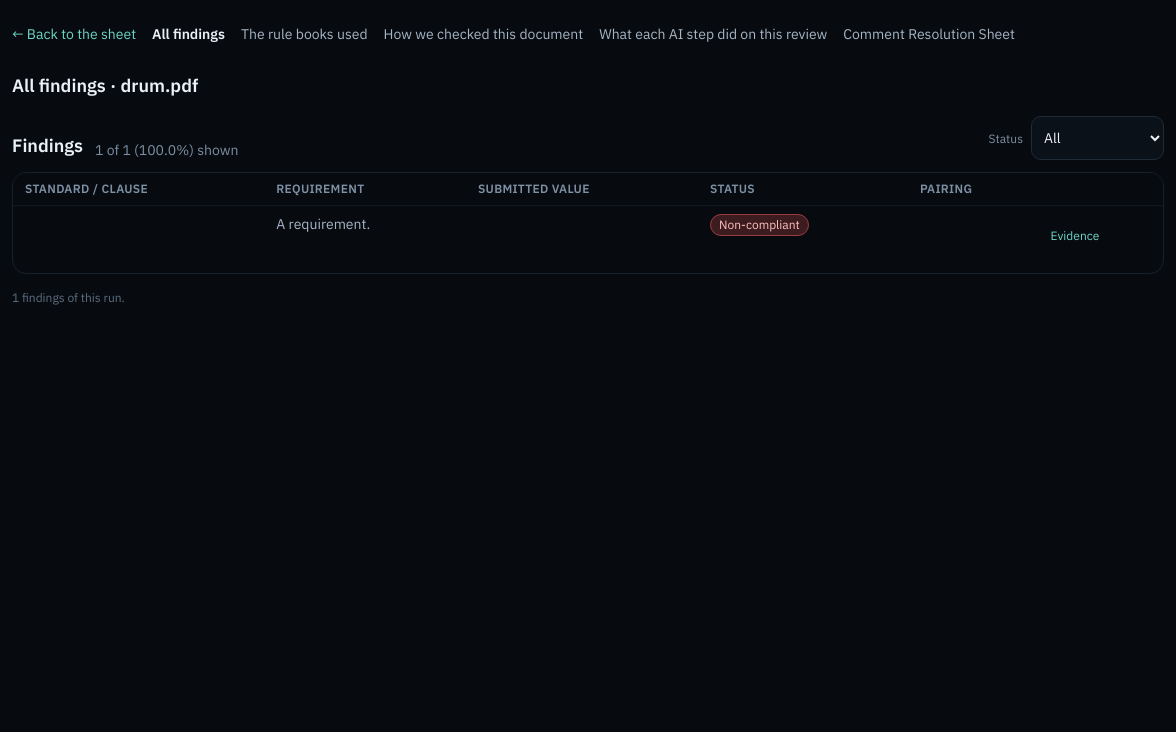
Test case: UX GROUP (2026-09-27): the finding detail › opens under the table when a finding is selected
The width and height of the screenshot is (1176, 732).
Click the text "A requirement." at (323, 224), box x1=264 y1=206 x2=466 y2=273
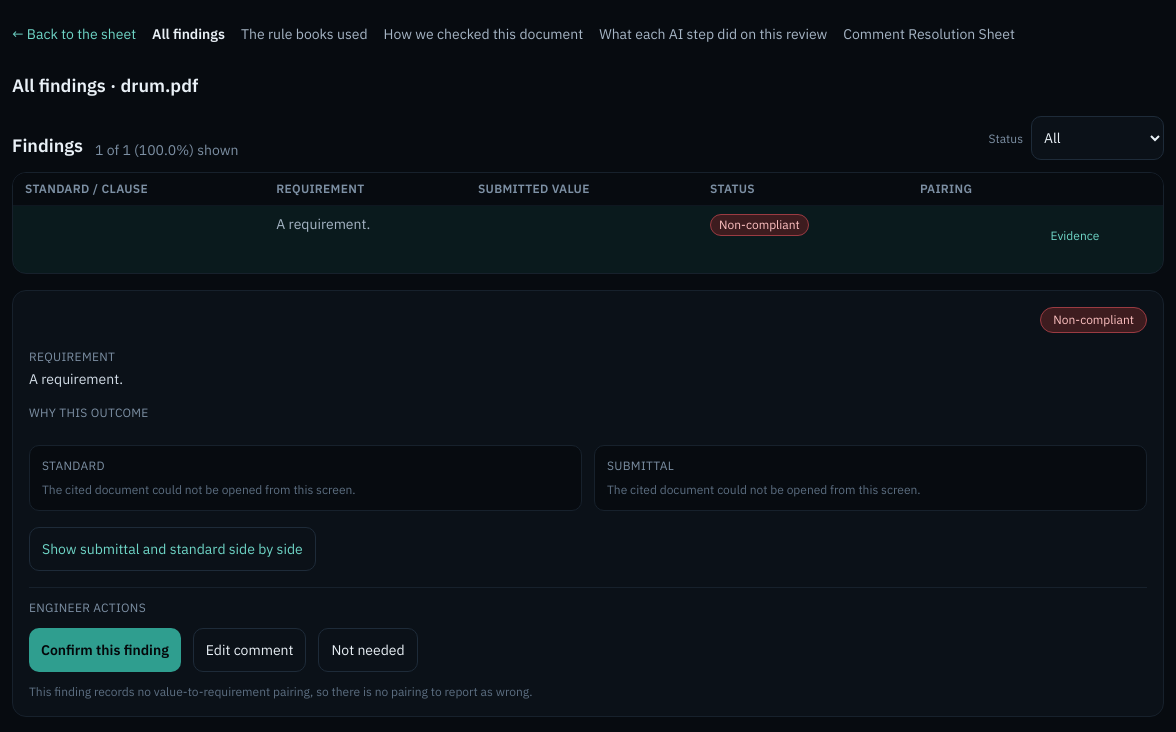
Now the heading "Engineer actions" is shown, box x1=29 y1=600 x2=146 y2=615
